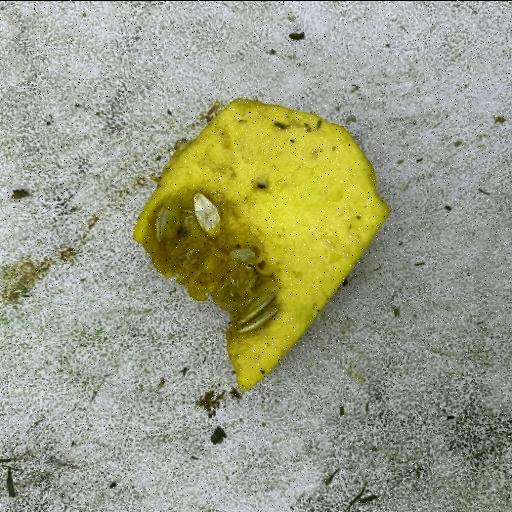Waste: (131, 97, 392, 393)
